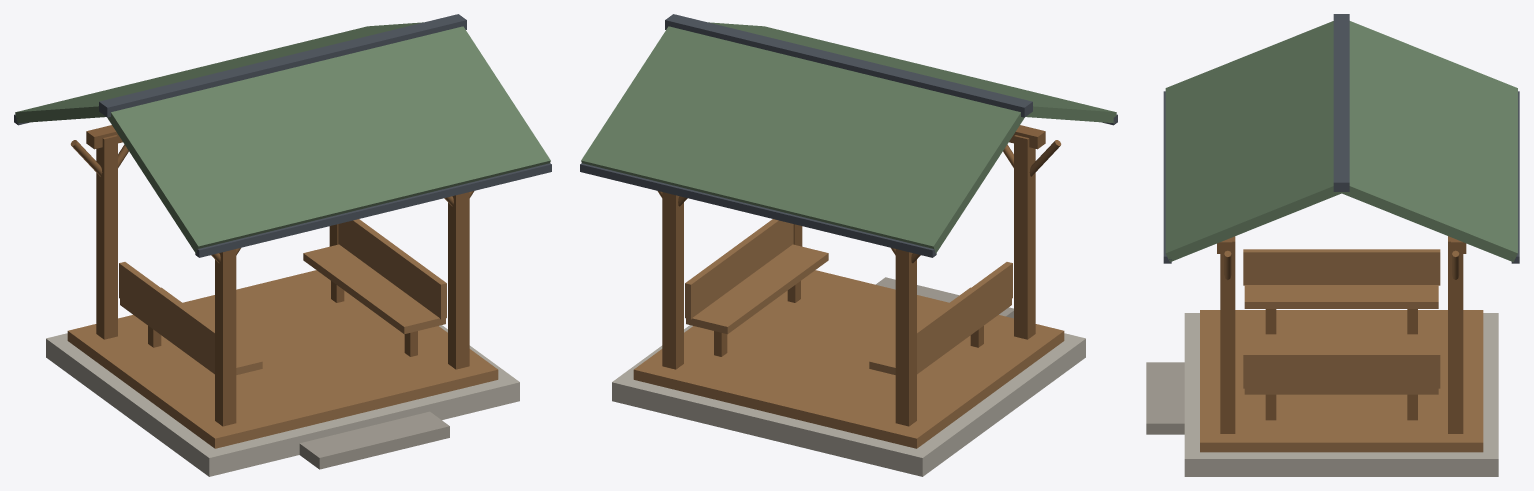
The model's file is komachi-park-pavilion.glb.
3 renders of one model, left to right at view 1: azimuth 30°, elevation 25°; view 2: azimuth 150°, elevation 25°; view 3: azimuth 270°, elevation 25°, orthographic. The views are drawn at different scales.
Parts seen in each view (by area): view 1: Park_Pavilion; view 2: Park_Pavilion; view 3: Park_Pavilion.
Part boxes in pixels (left/top/right/bottom): Park_Pavilion: left=14, top=14, right=551, bottom=476; Park_Pavilion: left=580, top=14, right=1117, bottom=476; Park_Pavilion: left=1146, top=14, right=1519, bottom=476.
Size of the model in its own units: 1.29 by 1.1 by 1.21.
